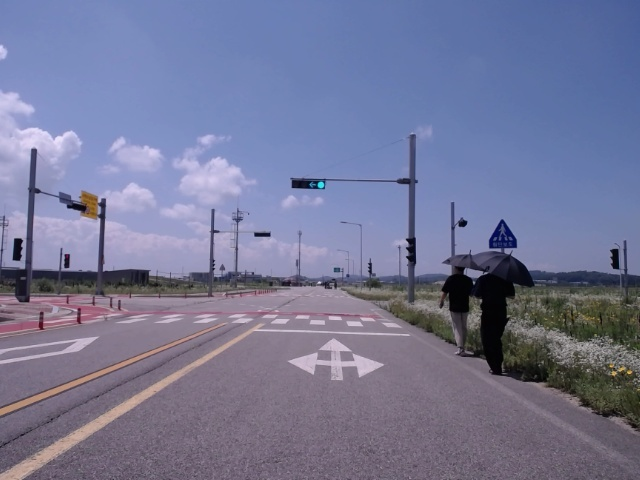all_green_4: (291, 179, 328, 191)
